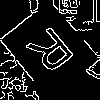R: (24, 24, 83, 83)
